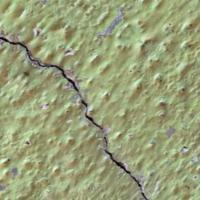crack: (0, 12, 155, 197)
